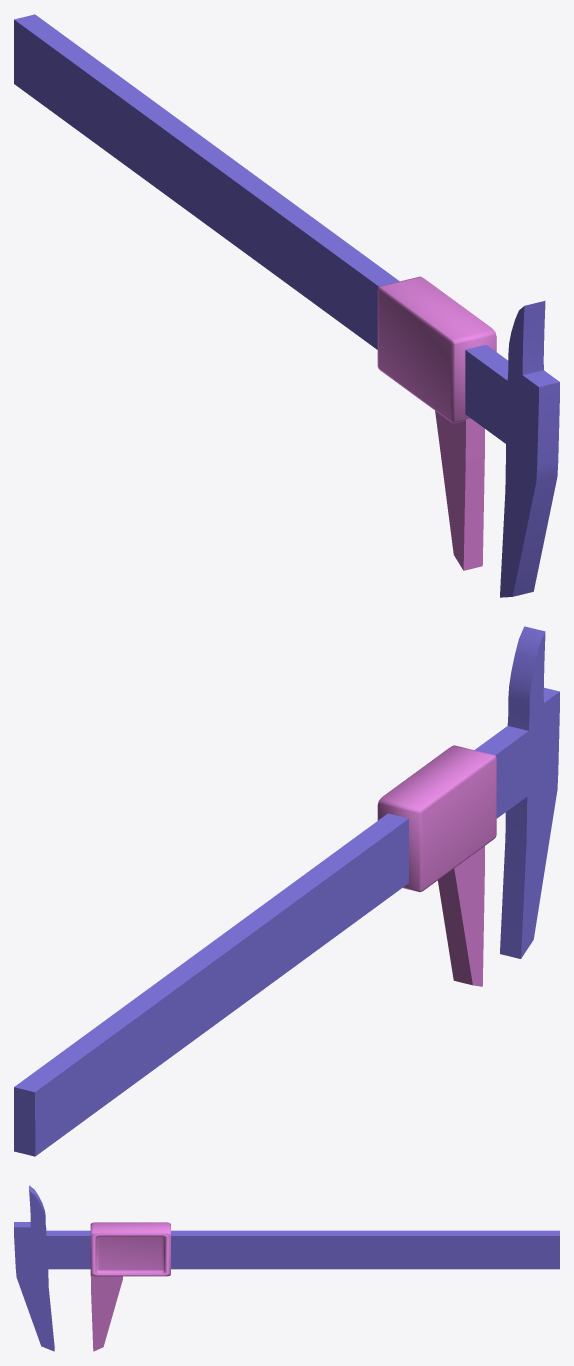
The model's file is Schtangencircule.fbx.
3 views of the same model, one above another, from view 1: azimuth 30°, elevation 25°; view 2: azimuth 150°, elevation 25°; view 3: azimuth 270°, elevation 25° (orthographic). The views are drawn at different scales.
Visible parts, largest first — view 1: Ruler, Motion_Part; view 2: Ruler, Motion_Part; view 3: Ruler, Motion_Part.
Part boxes in pixels (bbox=[...]): Ruler: bbox=[14, 14, 559, 597]; Motion_Part: bbox=[377, 276, 496, 570]; Ruler: bbox=[14, 626, 559, 1156]; Motion_Part: bbox=[377, 745, 496, 986]; Ruler: bbox=[14, 1185, 559, 1351]; Motion_Part: bbox=[90, 1222, 170, 1351].
Size of the model in its own units: 20.16 by 135 by 412.
